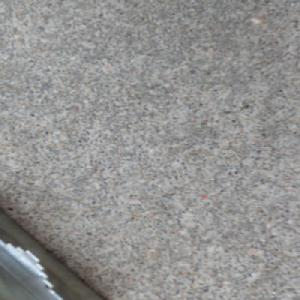ClampPart: (0, 197, 112, 300)
